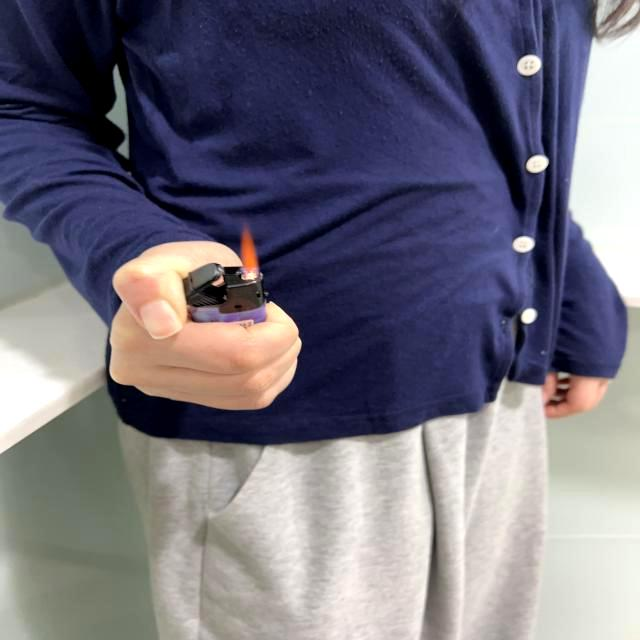fire: (240, 229, 262, 279)
